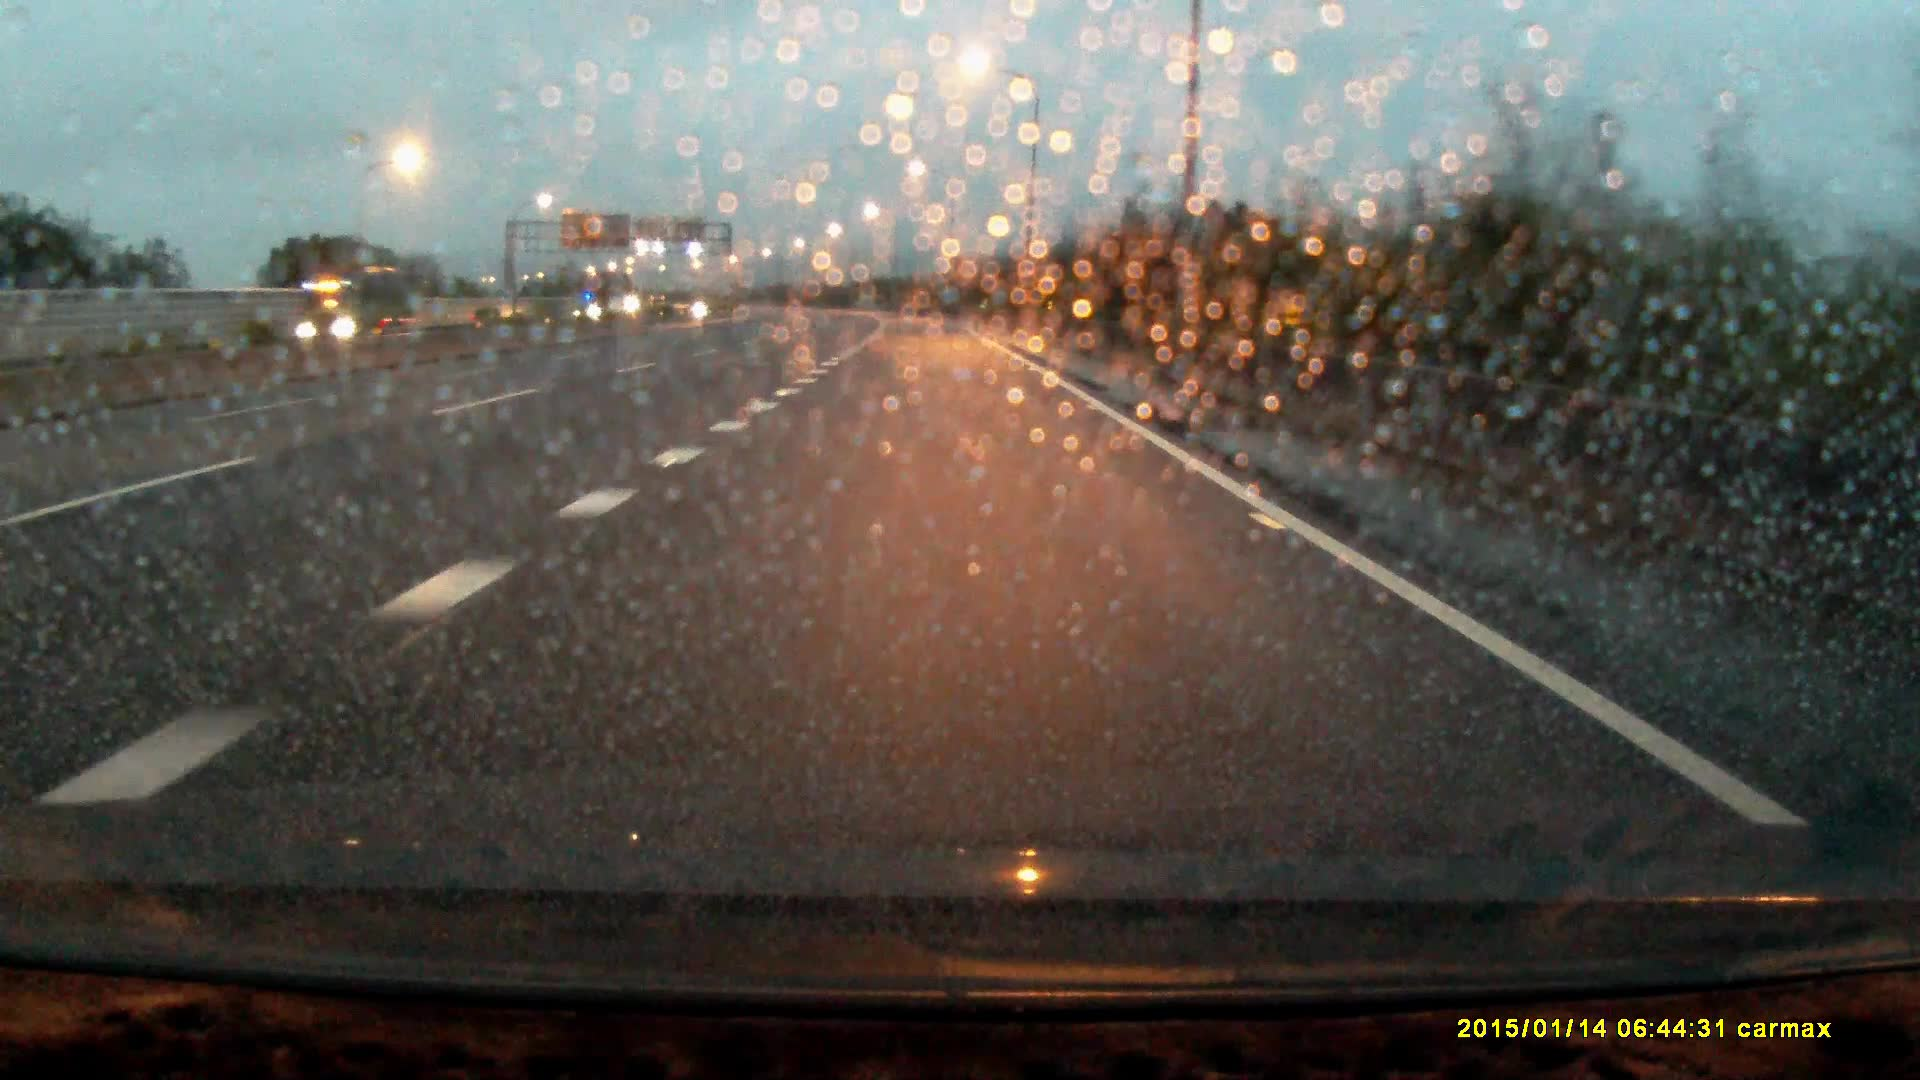vehicle: (293, 278, 398, 345)
